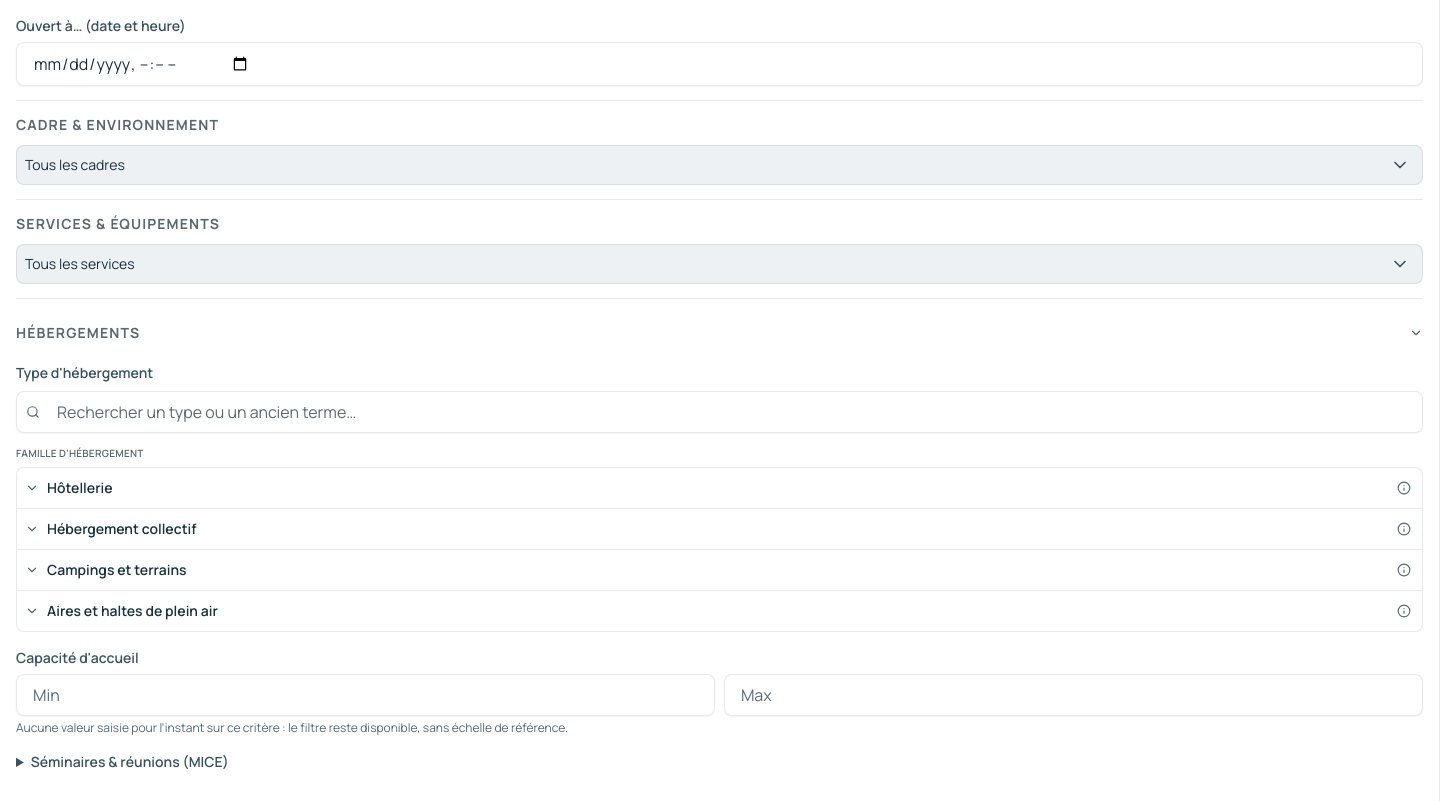
Test case: FiltersPanel — sections type-spécifiques repliables › §201 — hiérarchie v2 des hébergements › place les positionnements dans Hôtellerie et retire le surtitre Nature
The image size is (1440, 801).
(page scrolled)
Click the button "Hôtellerie" at (80, 488), box [17,468,1422,508]
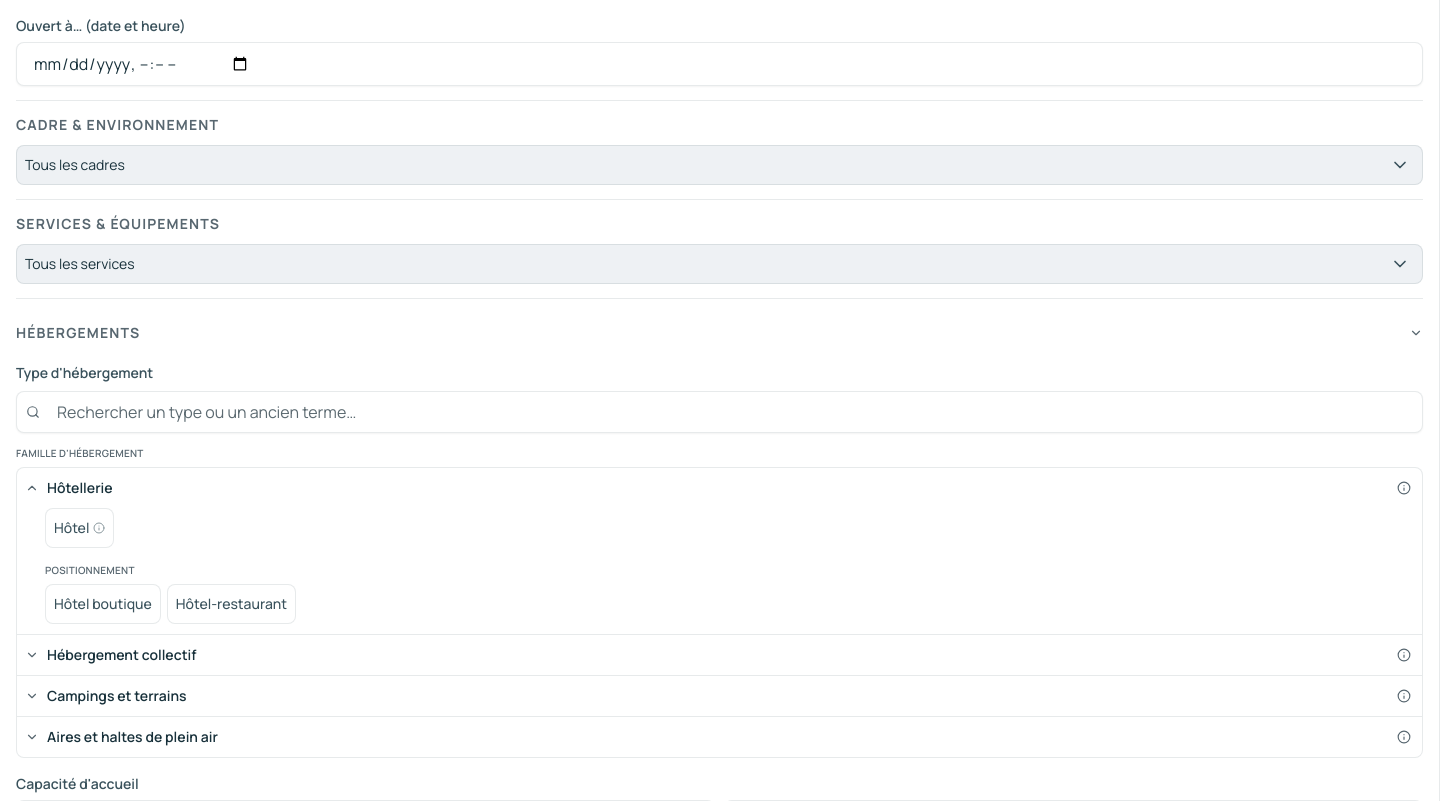
Result: the button "Hôtel" is shown at [45,508,114,548]
Result: the text "Positionnement" is shown at [45,563,135,577]
Result: the button "Hôtel-restaurant" is shown at [167,584,296,624]
